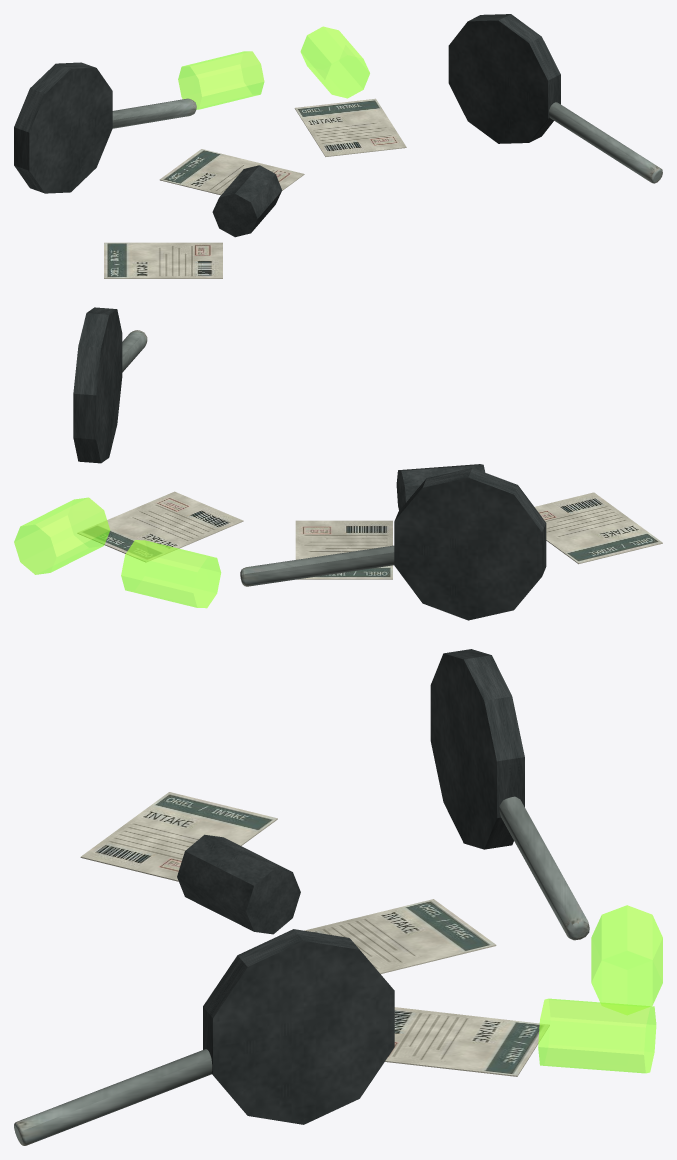
File: lab_floor_wreck.glb
3 views of the same model, one above another, from view 1: azimuth 30°, elevation 25°; view 2: azimuth 150°, elevation 25°; view 3: azimuth 270°, elevation 25° (orthographic). The views are drawn at different scales.
Visible parts, largest first — view 1: LabFloorWreck; view 2: LabFloorWreck; view 3: LabFloorWreck.
Part boxes in pixels (x1,y1,x2,y2): LabFloorWreck: (14,14,662,278); LabFloorWreck: (14,307,662,620); LabFloorWreck: (14,649,662,1145).
Size of the model in its own units: 1.47 by 0.34 by 1.09.
Materials: 2 (1 with a texture image).
